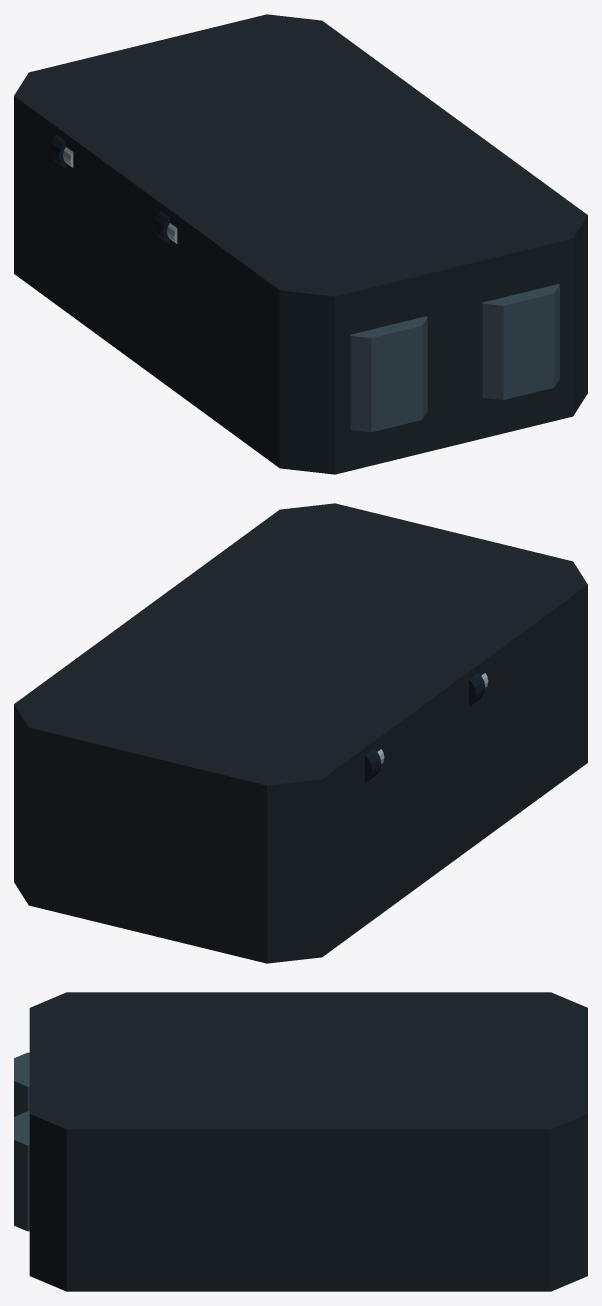
The model's file is enemy_runner_4k_foot_r.obj.
The picture shows the model from 3 angles, top to bottom: view 1: azimuth 30°, elevation 25°; view 2: azimuth 150°, elevation 25°; view 3: azimuth 270°, elevation 25°; orthographic projection. The views are drawn at different scales.
Size of the model in its own units: 0.3152 by 0.17 by 0.545.
